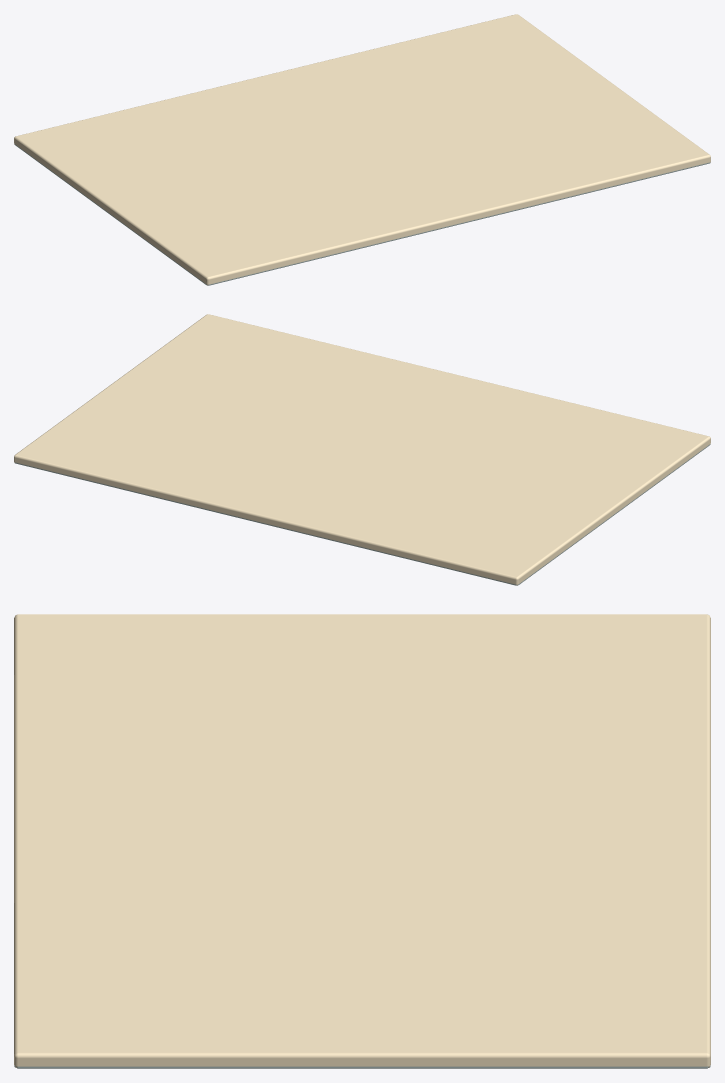
The model's file is fridge-shelf-overhang-light.glb.
3 renders of one model, top to bottom at view 1: azimuth 30°, elevation 25°; view 2: azimuth 150°, elevation 25°; view 3: azimuth 270°, elevation 25°, orthographic. The views are drawn at different scales.
Parts seen in each view (by area): view 1: ivory, steel; view 2: ivory, steel; view 3: ivory, steel.
Part boxes in pixels (x1,y1,x2,y2): ivory: [14, 14, 710, 285]; steel: [14, 144, 710, 285]; ivory: [14, 314, 710, 585]; steel: [14, 444, 710, 585]; ivory: [14, 614, 710, 1067]; steel: [14, 1065, 710, 1068].
Bounding box in the file's own units: 18 × 0.3 × 12.
